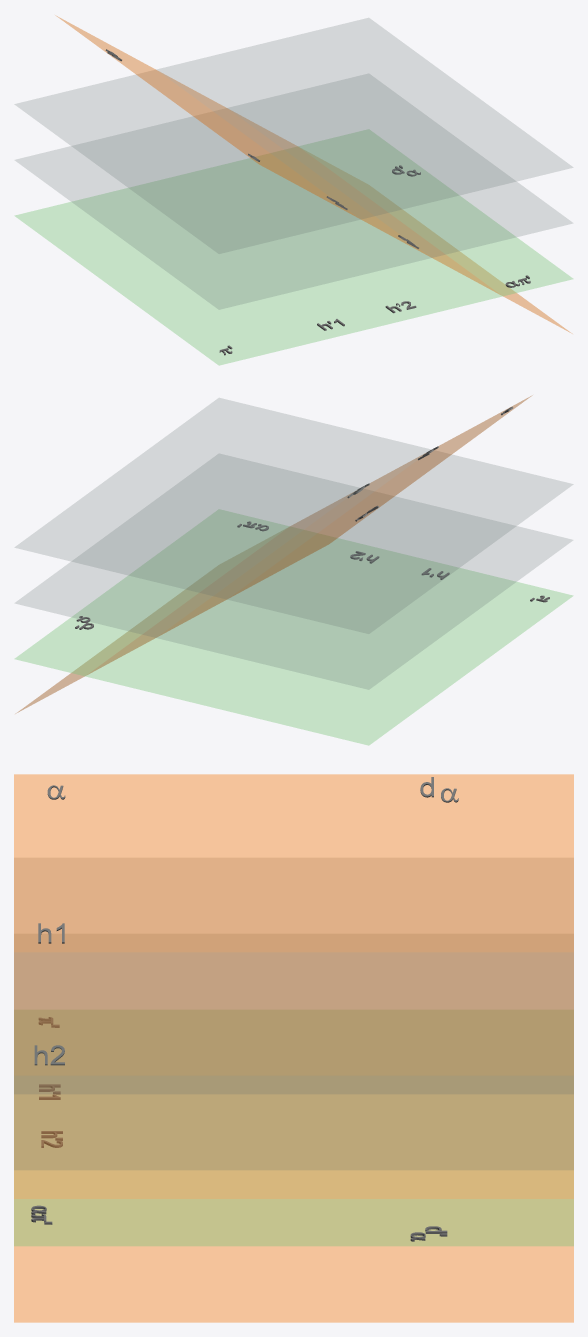
The model's file is reta_declive.glb.
3 renders of one model, top to bottom at view 1: azimuth 30°, elevation 25°; view 2: azimuth 150°, elevation 25°; view 3: azimuth 270°, elevation 25°, orthographic. The views are drawn at different scales.
Parts seen in each view (by area): view 1: root; view 2: root; view 3: root.
Boxes of the visible parts, <box> form: root: <box>15,16,572,365</box>; root: <box>15,396,572,745</box>; root: <box>14,774,573,1322</box>.
Bounding box in the file's own units: 2.54 × 1.69 × 2.54.
